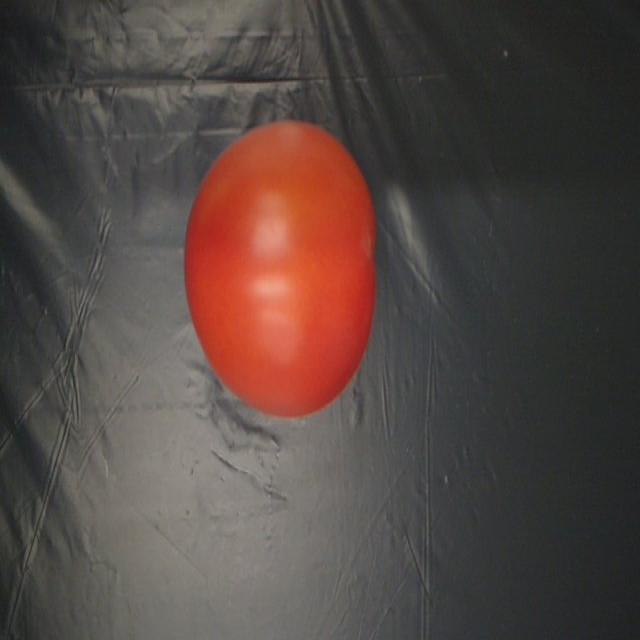kirmizi: (167, 124, 403, 426)
